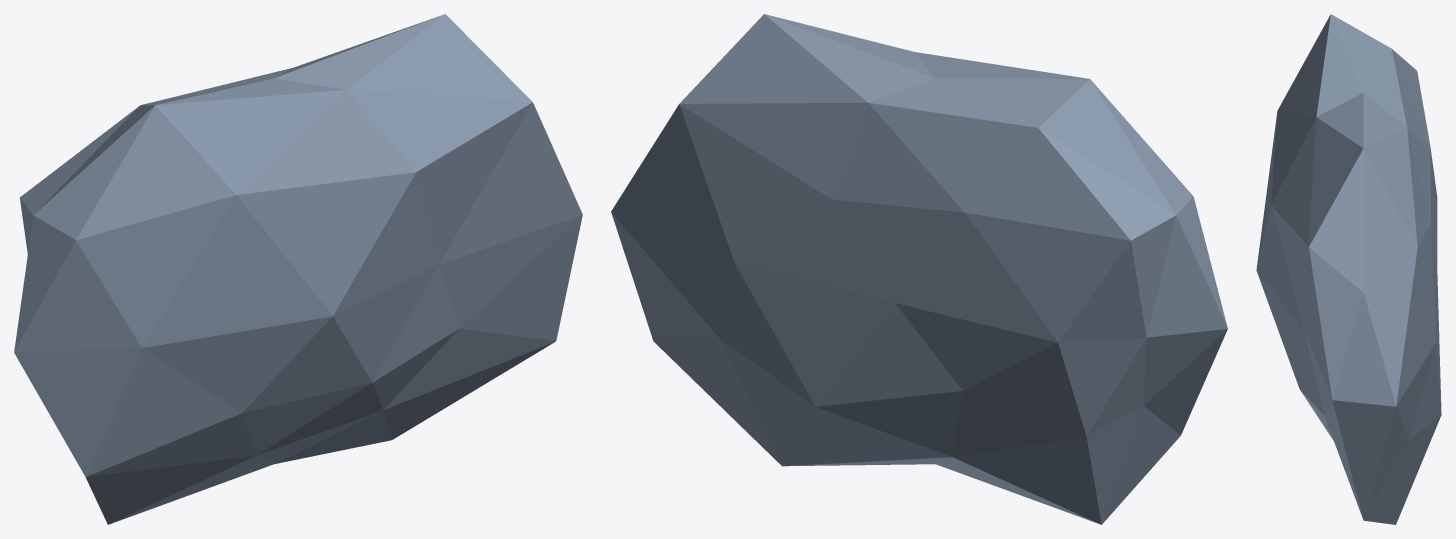
The model's file is Env_Rock_Wall.fbx.
The picture shows the model from 3 angles, left to right: view 1: azimuth 30°, elevation 25°; view 2: azimuth 150°, elevation 25°; view 3: azimuth 270°, elevation 25°; orthographic projection. The views are drawn at different scales.
Parts seen in each view (by area): view 1: Env_Rock_Wall; view 2: Env_Rock_Wall; view 3: Env_Rock_Wall.
Boxes of the visible parts, left/top/right/bottom form: Env_Rock_Wall: left=14, top=14, right=582, bottom=524; Env_Rock_Wall: left=611, top=14, right=1227, bottom=524; Env_Rock_Wall: left=1256, top=14, right=1441, bottom=524.
Bounding box in the file's own units: 8.21 × 5.79 × 2.48.
